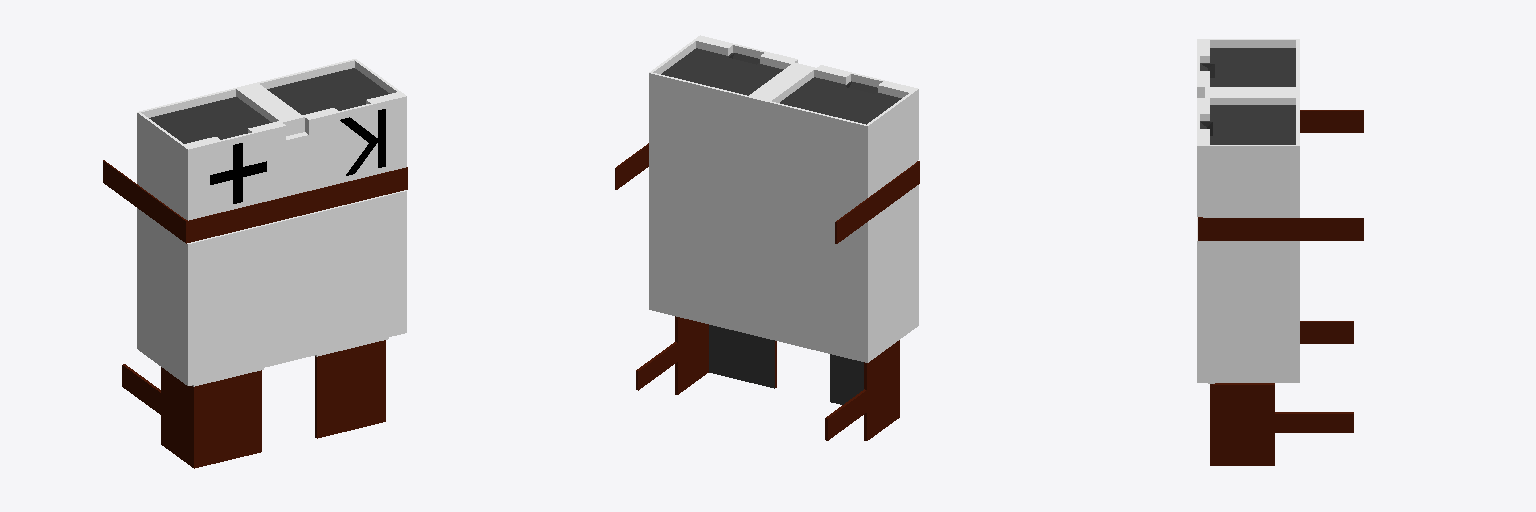
The model's file is ThermoCouple.obj.
The picture shows the model from 3 angles: view 1: azimuth 30°, elevation 25°; view 2: azimuth 150°, elevation 25°; view 3: azimuth 270°, elevation 25°; orthographic projection.
Visible parts, largest first — view 1: ThermoCouple.001_ThermoCouple.003, K.001_Mesh.001, K_Mesh; view 2: ThermoCouple.001_ThermoCouple.003; view 3: ThermoCouple.001_ThermoCouple.003.
Part boxes in pixels (x1,y1,x2,y2): ThermoCouple.001_ThermoCouple.003: (103, 59, 407, 468); K.001_Mesh.001: (210, 143, 266, 203); K_Mesh: (340, 109, 385, 175); ThermoCouple.001_ThermoCouple.003: (615, 35, 919, 440); ThermoCouple.001_ThermoCouple.003: (1197, 39, 1363, 465).
Size of the model in its own units: 6.19 by 8.71 by 4.07.